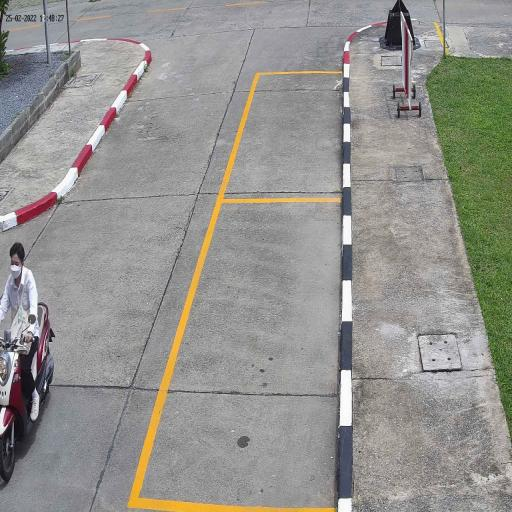motorcycle: (0, 330, 55, 484)
